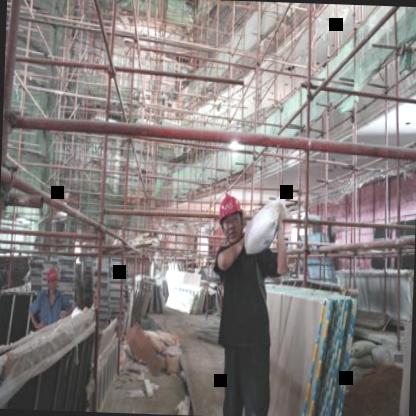helmet: (213, 188, 247, 251), (46, 263, 60, 295)
